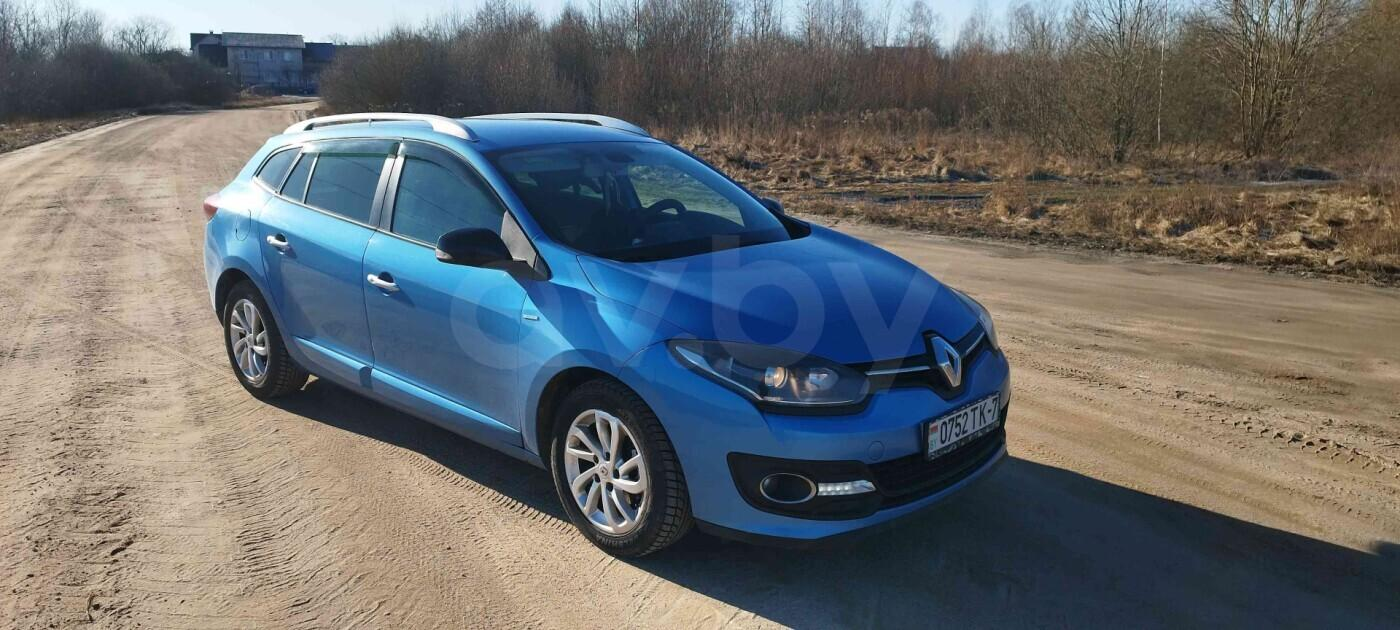Megane_2014-2016: (198, 101, 1017, 556)
